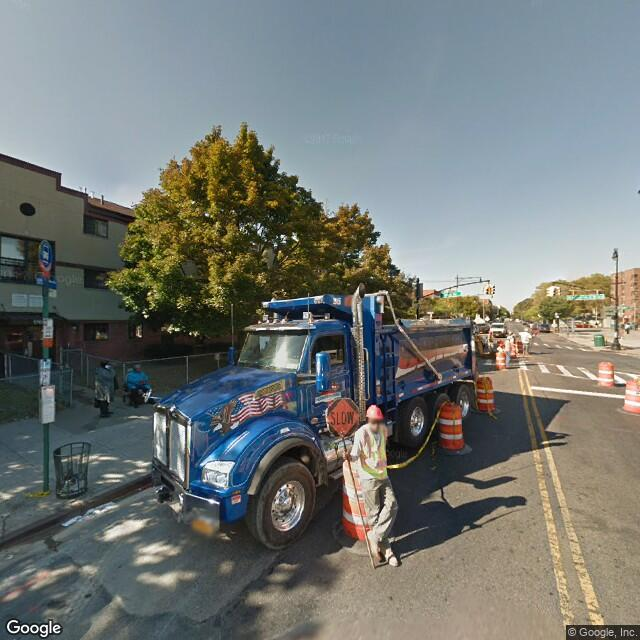litter: (13, 485, 84, 540)
